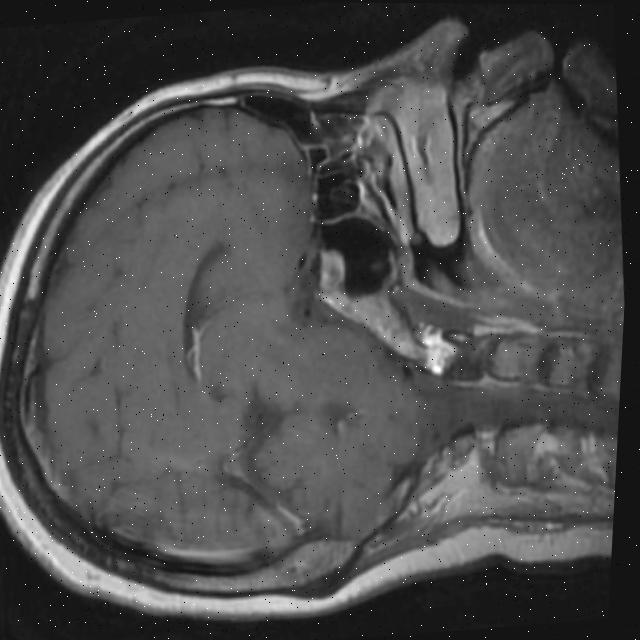Pituitary: (317, 245, 349, 290)
